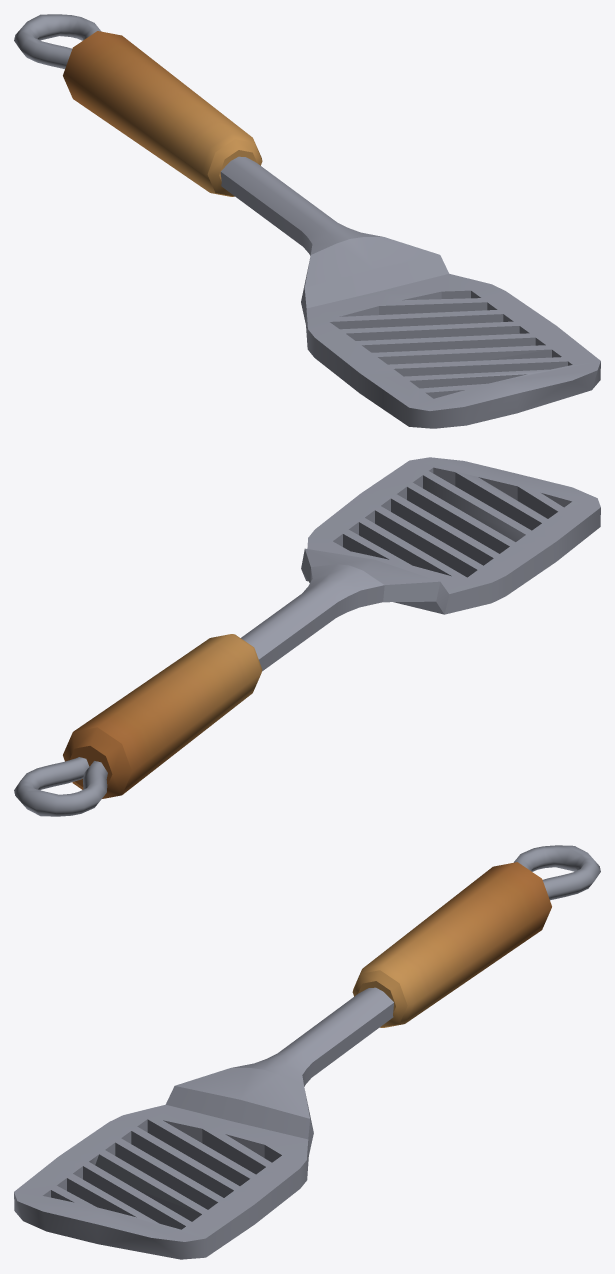
File: Utensils_2_A.glb
3 renders of one model, top to bottom at view 1: azimuth 30°, elevation 25°; view 2: azimuth 150°, elevation 25°; view 3: azimuth 330°, elevation 25°, orthographic.
Parts seen in each view (by area): view 1: Utensils_2_A; view 2: Utensils_2_A; view 3: Utensils_2_A.
Boxes of the visible parts, x1,y1,x2,y2 form: Utensils_2_A: (14,14,600,428); Utensils_2_A: (14,457,600,816); Utensils_2_A: (14,845,600,1259).
Bounding box in the file's own units: 0.1138 × 0.0416 × 0.4847.
2 materials, 2 textured.
